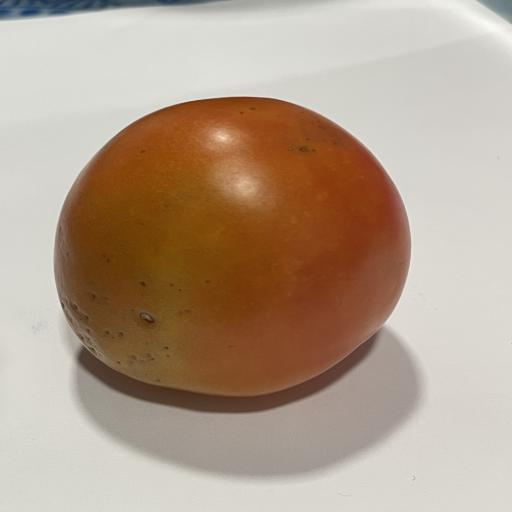unripe: (55, 97, 410, 396)
